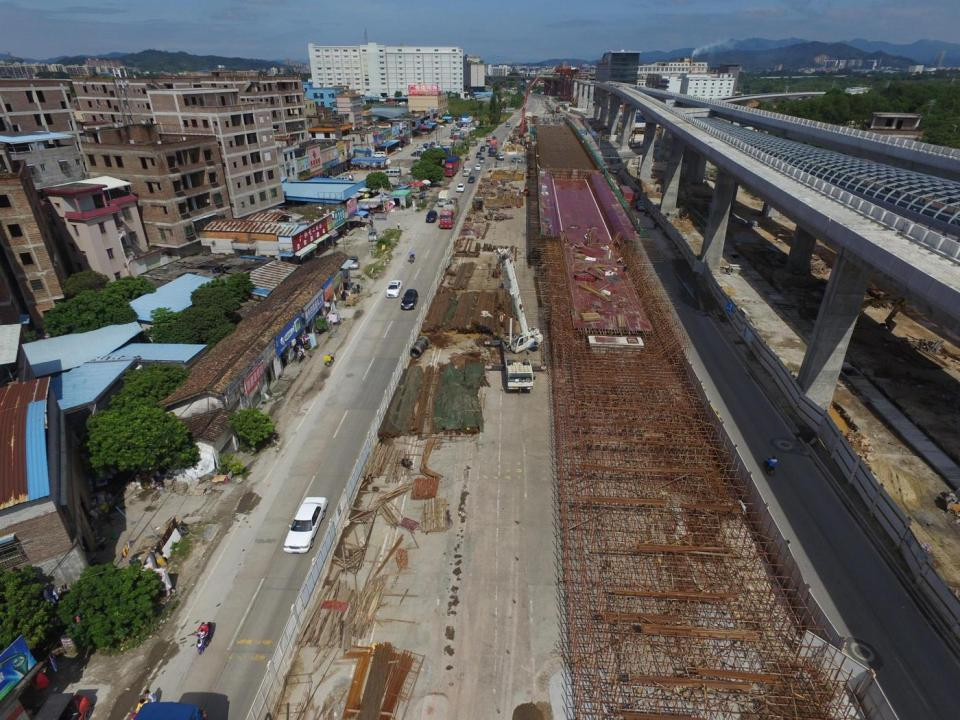car: (284, 495, 327, 554), (400, 288, 418, 311), (386, 280, 402, 298), (348, 255, 360, 270), (426, 210, 437, 223), (368, 228, 376, 241), (455, 183, 466, 192), (462, 168, 472, 177), (340, 174, 352, 181), (391, 146, 402, 152), (511, 157, 521, 163), (468, 176, 475, 183), (496, 154, 504, 160), (410, 152, 422, 156), (479, 157, 485, 164), (475, 164, 481, 170), (418, 148, 427, 152), (611, 168, 617, 174), (423, 129, 430, 134), (420, 131, 428, 135), (475, 152, 481, 157), (480, 145, 484, 152), (506, 123, 510, 127)
truck: (504, 359, 531, 392), (439, 198, 459, 230), (616, 183, 635, 211), (444, 155, 459, 177), (438, 190, 449, 207), (451, 132, 466, 142), (636, 200, 646, 211), (556, 106, 560, 113)
van: (382, 168, 400, 178), (335, 176, 349, 184), (372, 152, 386, 157)
